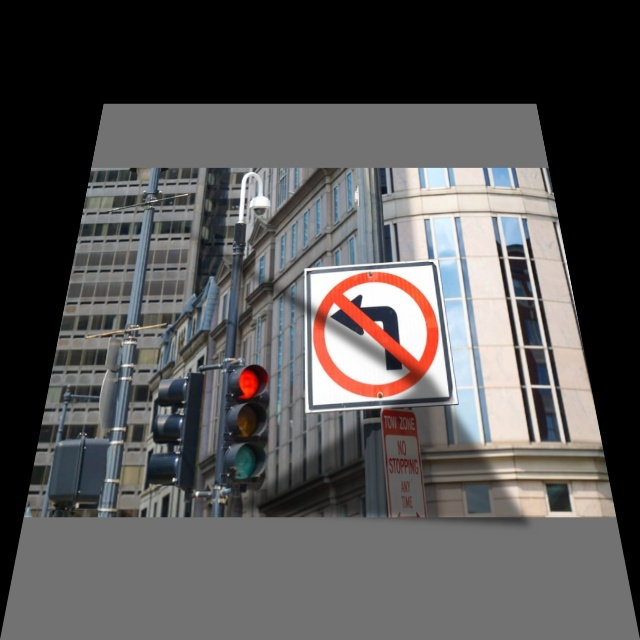Left_Turn_Prohibited: (304, 267, 458, 404)
